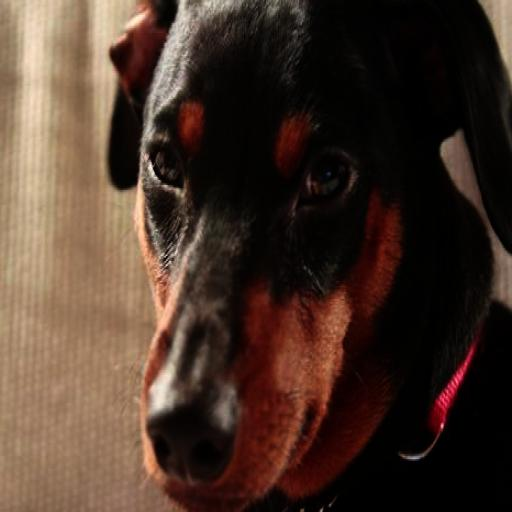dog_face: (96, 0, 508, 509)
